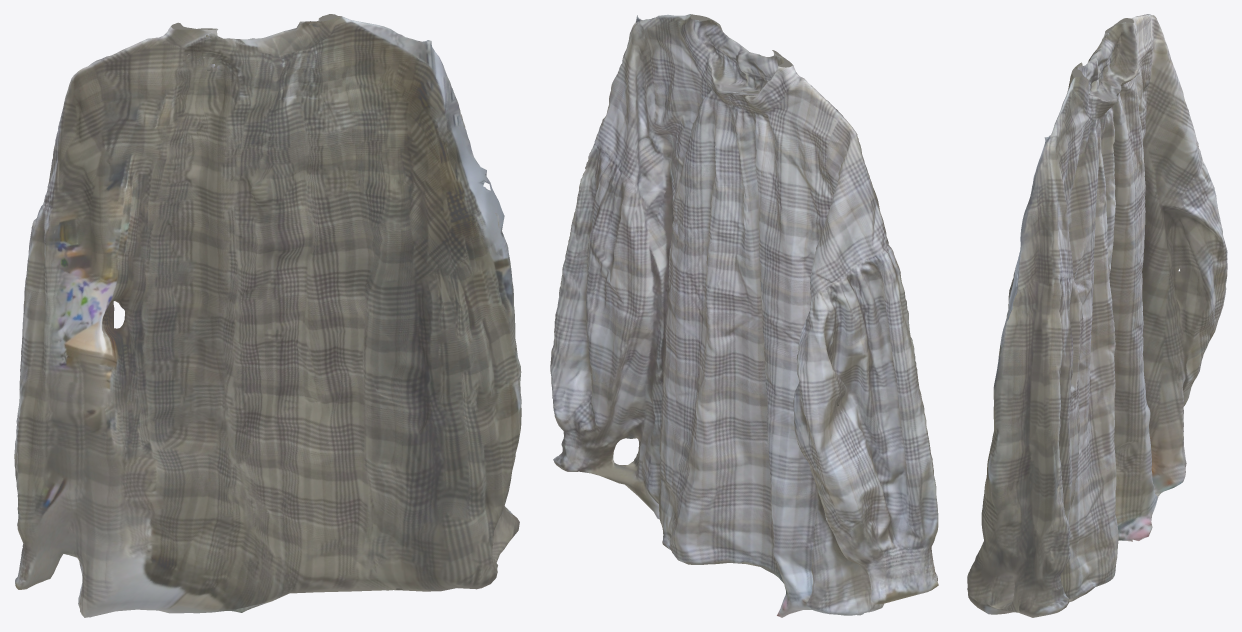
File: Autumn_girly_top.glb
The picture shows the model from 3 angles, left to right: view 1: azimuth 30°, elevation 25°; view 2: azimuth 150°, elevation 25°; view 3: azimuth 270°, elevation 25°; orthographic projection. The views are drawn at different scales.
Parts seen in each view (by area): view 1: 3DModel; view 2: 3DModel; view 3: 3DModel.
Part boxes in pixels (<box>): 3DModel: <box>14,14,521,617</box>; 3DModel: <box>550,14,938,617</box>; 3DModel: <box>967,14,1227,617</box>.
Bounding box in the file's own units: 0.5655 × 0.6984 × 0.3167.
1 material, 1 textured.
